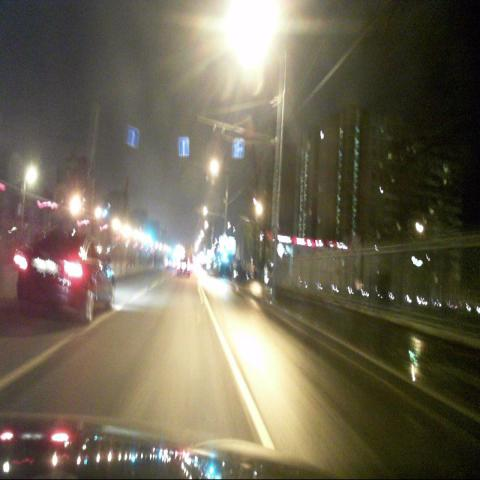5_15_2: (127, 127, 138, 147), (178, 137, 188, 156), (234, 139, 244, 158)
